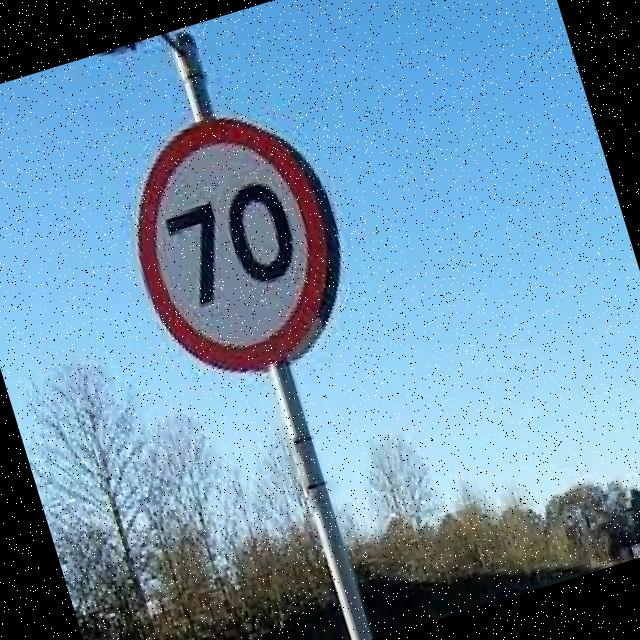speed_limit_70: (104, 96, 363, 397)
